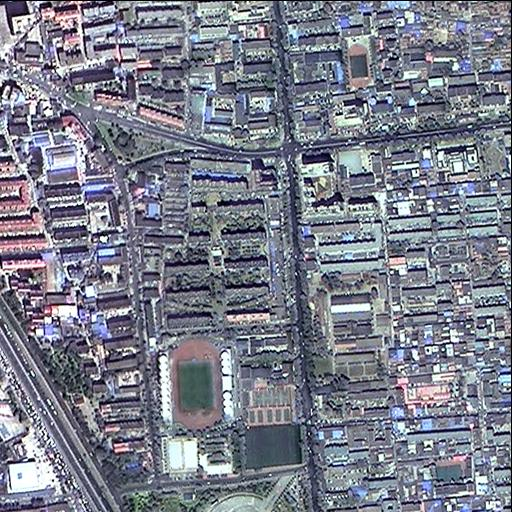school: (343, 8, 380, 91), (430, 455, 475, 494)
